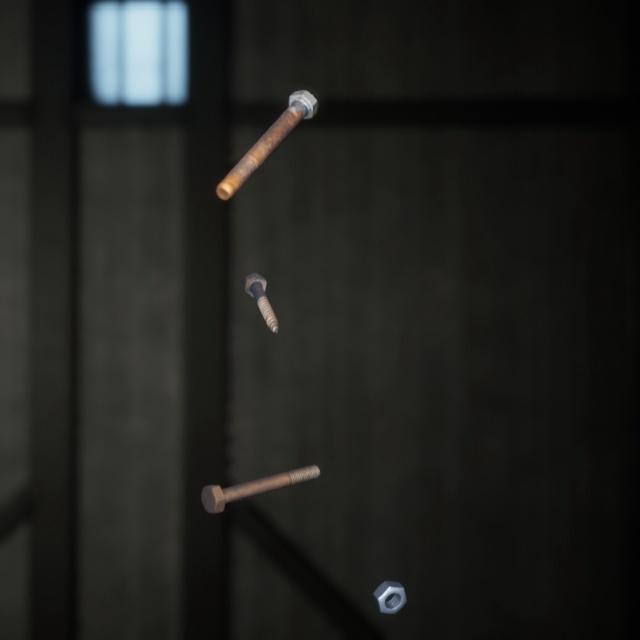bolt: (211, 72, 322, 190), (196, 439, 324, 495), (238, 250, 283, 319)
nut: (368, 554, 411, 596)
